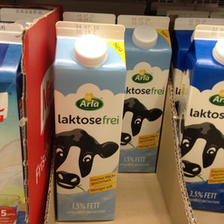milk: (50, 23, 125, 224), (119, 17, 172, 175), (181, 23, 224, 211)
